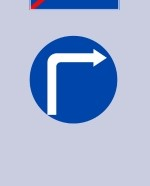Turn_right: (28, 35, 120, 126)
